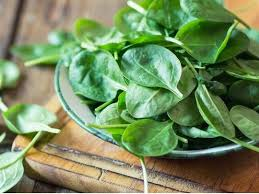spinach: (111, 29, 236, 129)
